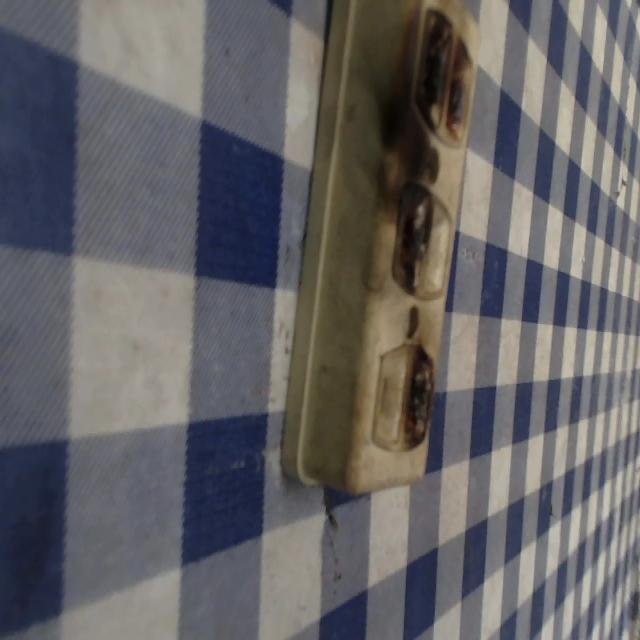-: (414, 4, 475, 137), (391, 176, 428, 292), (405, 341, 433, 448)
